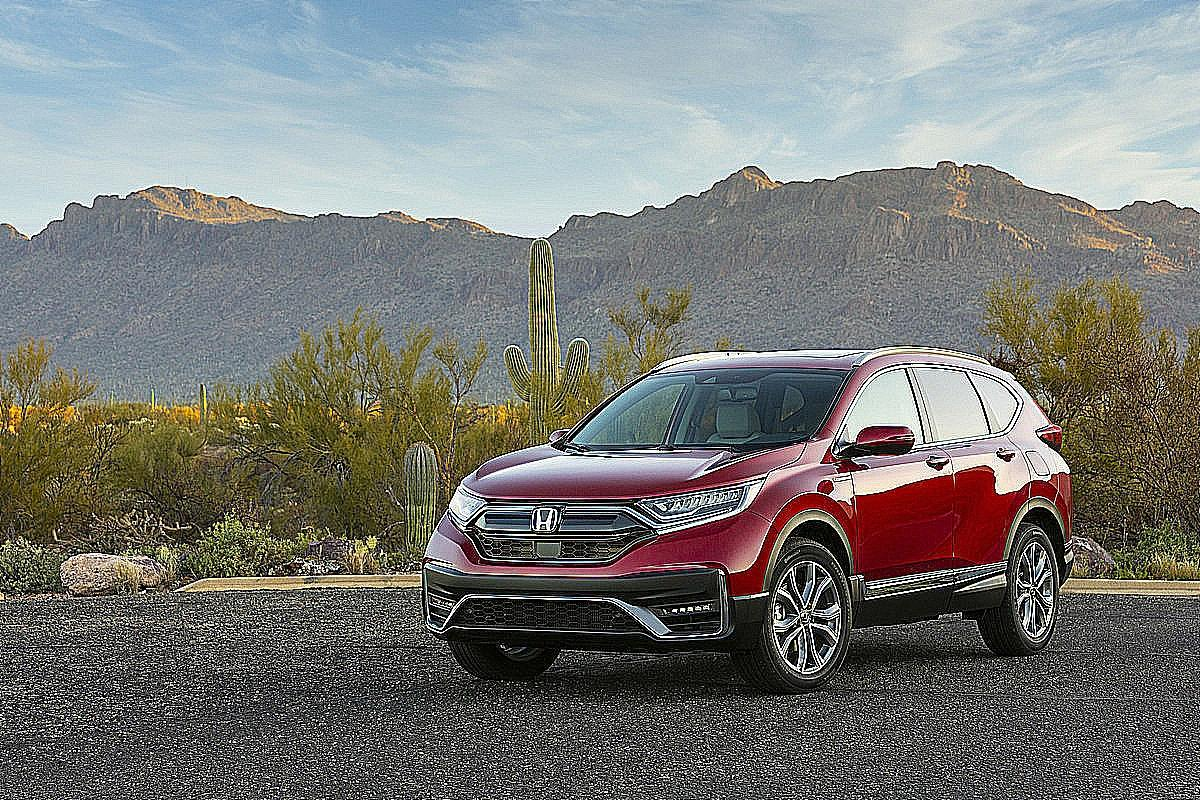Car hood: (457, 439, 805, 504)
Fender - -F-L-: (749, 434, 859, 603)
Fender - -R-L-: (1001, 375, 1072, 546)
Front bumper: (424, 506, 780, 646)
Headlight - -L-: (628, 470, 773, 536)
Headlight - -R-: (444, 484, 491, 531)
Passenger-s door - -F-L-: (843, 340, 959, 627)
Passenger-s door - -R-L-: (909, 343, 1038, 613)
Rear bumper: (1049, 540, 1080, 589)
Side bumper - -L-: (849, 546, 1018, 654)
Side mirror - -L-: (836, 421, 918, 469)
